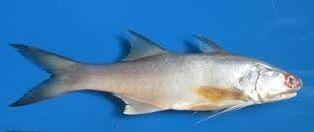Fourfinger Threadfish: (8, 30, 304, 118)
